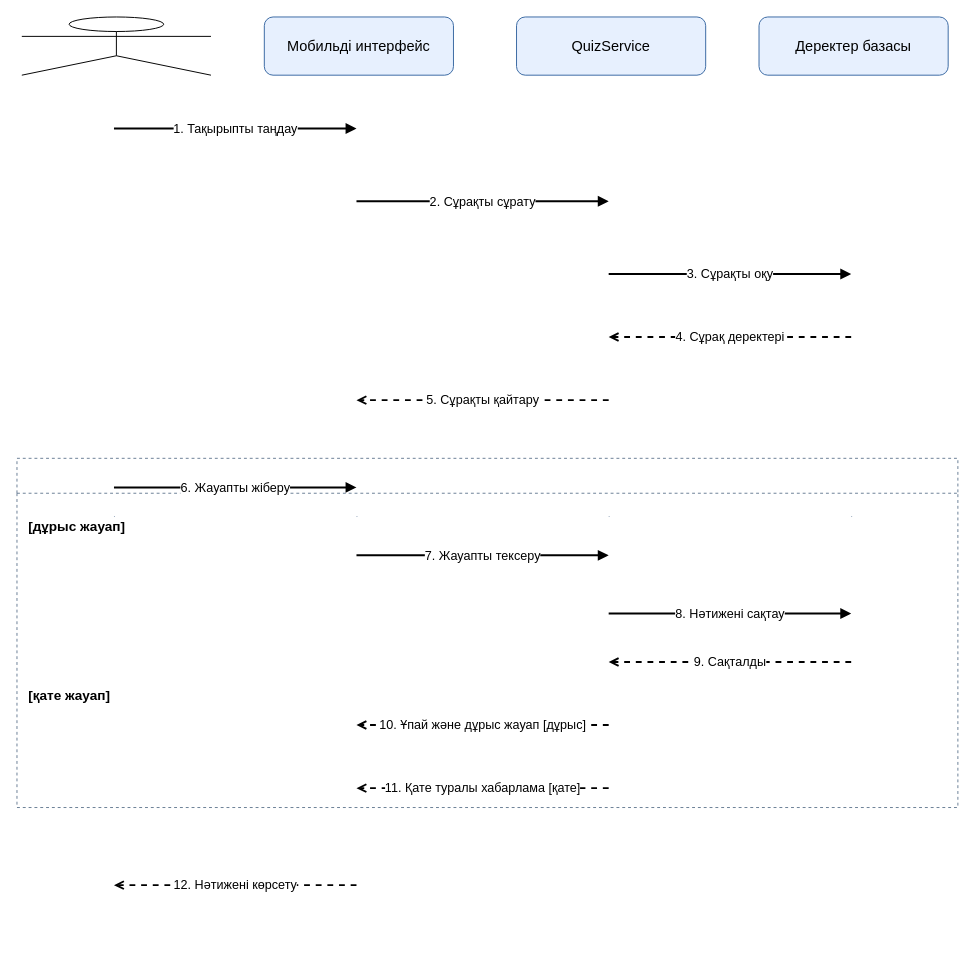
Some shapes in this 975 by 960 pixel diagram are drawn without their labels. Each missing label, with the box of its shape:
alt: жауаптың дұрыстығы: (16, 457, 958, 808)
Оқушы: (21, 16, 211, 75)
